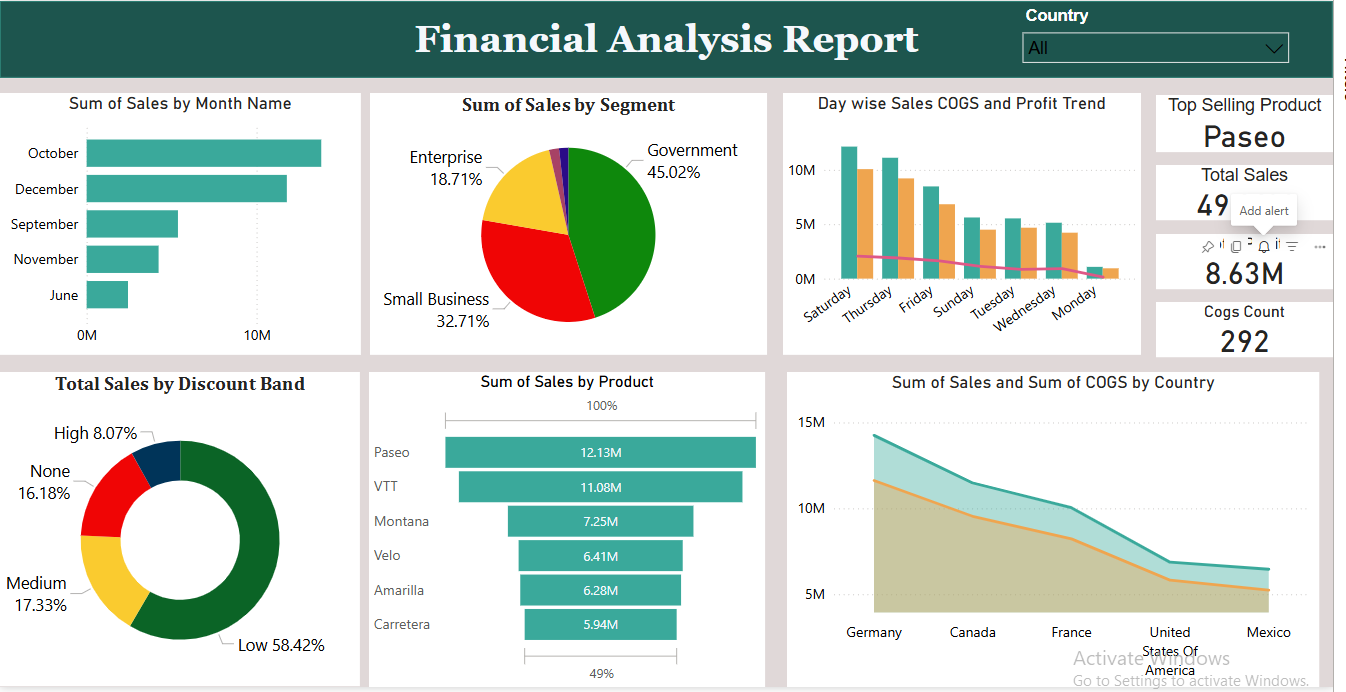

What the dashboard file says about the page in this screenshot:
{"tool":"powerbi","page":{"name":"Page 1","canvas":[1400,720],"ordinal":0},"visuals":[{"type":"shape","box":[0,0,1399.7,80.6],"z":0},{"type":"barChart","fields":{"Category":["Final_Data.Month Name"],"Y":["Sum(Final_Data. Sales)"]},"box":[0,96.5,378.7,275],"z":1000},{"type":"donutChart","title":"Total Sales by Discount Band","fields":{"Category":["Final_Data.Discount Band"],"Y":["Sum(Final_Data. Sales)"]},"box":[0,389.8,378.4,330.2],"z":2000},{"type":"pieChart","fields":{"Category":["Final_Data.Segment"],"Y":["Sum(Final_Data. Sales)"]},"box":[388.3,96.4,416.7,275],"z":3000},{"type":"areaChart","fields":{"Category":["Final_Data.Country"],"Y":["Sum(Final_Data. Sales)","Sum(Final_Data.COGS)"]},"box":[826.3,389.3,559.4,330.5],"z":4000},{"type":"lineClusteredColumnComboChart","title":"Day wise Sales COGS and Profit Trend","fields":{"Category":["Final_Data.Day Name"],"Y":["Sum(Final_Data. Sales)","Sum(Final_Data.COGS)"],"Y2":["Sum(Final_Data.Profit)"]},"box":[822,96.4,375.6,275],"z":5000},{"type":"funnel","fields":{"Category":["Final_Data.Product"],"Y":["Sum(Final_Data. Sales)"]},"box":[387.7,389.3,416.3,330.5],"z":6000},{"type":"card","title":"Top Selling Product","fields":{"Values":["Min(Final_Data.Product)"]},"box":[1214,98.5,186,60],"z":7000},{"type":"card","title":"Cogs Count","fields":{"Values":["CountNonNull(Final_Data.COGS)"]},"box":[1214,316.6,186,58],"z":8000},{"type":"card","title":"Total Profit","fields":{"Values":["Sum(Final_Data.Profit)"]},"box":[1214,244.6,186,58],"z":9000},{"type":"card","title":"Total Sales","fields":{"Values":["Sum(Final_Data. Sales)"]},"box":[1214,172.6,186,58],"z":10000},{"type":"slicer","fields":{"Values":["Final_Data.Country"]},"box":[1064.4,0,299.7,81.2],"z":11000}]}

Visuals, with their boxes in screenshot pixels (x1, y1, x2, y2), scaled from the page's 1400x720 canvas onto the 1346x692 screenshot:
shape: Rect(0, 0, 1345, 77)
barChart - Final_Data.Month Name x Sum(Final_Data. Sales): Rect(0, 93, 364, 357)
"Total Sales by Discount Band" donutChart: Rect(0, 375, 364, 691)
pieChart - Final_Data.Segment x Sum(Final_Data. Sales): Rect(373, 93, 774, 357)
areaChart - Final_Data.Country x Sum(Final_Data. Sales): Rect(794, 374, 1332, 691)
"Day wise Sales COGS and Profit Trend" lineClusteredColumnComboChart: Rect(790, 93, 1151, 357)
funnel - Final_Data.Product x Sum(Final_Data. Sales): Rect(373, 374, 773, 691)
"Top Selling Product" card: Rect(1167, 95, 1345, 152)
"Cogs Count" card: Rect(1167, 304, 1345, 360)
"Total Profit" card: Rect(1167, 235, 1345, 291)
"Total Sales" card: Rect(1167, 166, 1345, 222)
slicer - Final_Data.Country: Rect(1023, 0, 1311, 78)
